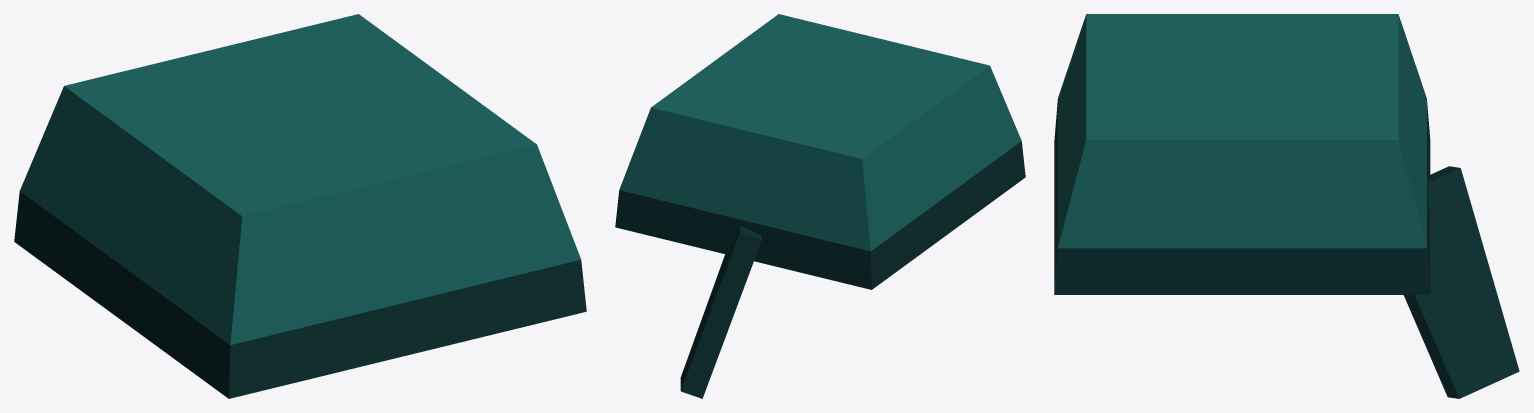
Rendered from gear_head_starter_wrap.glb.
3 renders of one model, left to right at view 1: azimuth 30°, elevation 25°; view 2: azimuth 150°, elevation 25°; view 3: azimuth 270°, elevation 25°, orthographic. The views are drawn at different scales.
Visible parts, largest first — view 1: head; view 2: head; view 3: head.
Boxes of the visible parts, <box> form: head: <box>14,14,586,398</box>; head: <box>615,14,1025,398</box>; head: <box>1054,14,1519,398</box>.
Size of the model in its own units: 0.255 by 0.2332 by 0.3279.
